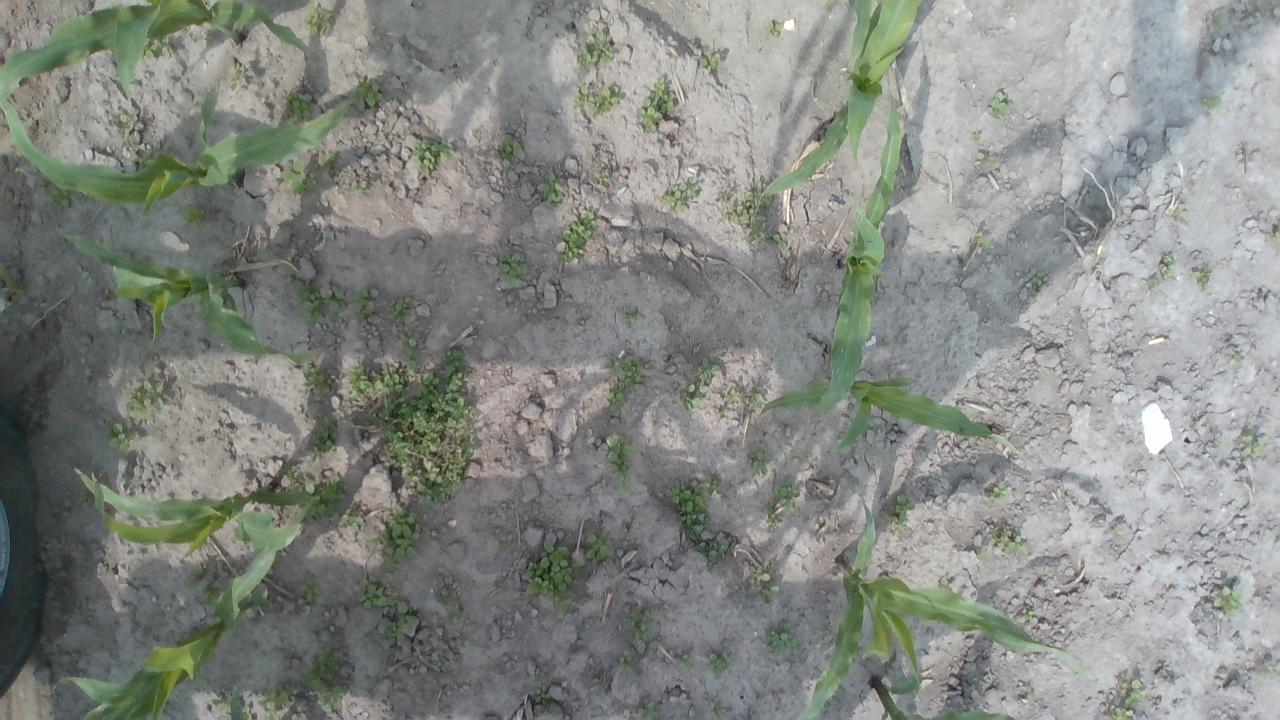Maize: (785, 491, 1093, 720), (0, 94, 354, 224), (50, 224, 329, 369), (53, 548, 272, 720), (0, 0, 303, 116), (758, 0, 922, 194), (812, 89, 906, 412), (64, 456, 320, 560), (755, 376, 1027, 463), (866, 670, 1024, 720)
Weeds: (366, 350, 476, 512), (662, 474, 725, 543), (524, 540, 580, 616), (300, 646, 351, 714), (280, 464, 344, 518), (371, 504, 422, 571), (723, 180, 771, 239), (290, 278, 346, 325), (605, 353, 644, 416), (557, 209, 599, 262), (636, 76, 674, 134), (410, 136, 456, 176), (380, 602, 418, 650), (604, 433, 634, 491), (570, 84, 620, 118), (124, 380, 164, 422), (736, 566, 782, 602), (184, 564, 223, 606), (573, 30, 613, 70), (660, 175, 700, 215), (95, 417, 139, 453), (280, 159, 322, 192), (762, 620, 802, 654), (987, 522, 1028, 555), (624, 606, 656, 648), (34, 177, 72, 212), (262, 681, 296, 720), (884, 496, 918, 534), (209, 692, 254, 720), (1116, 672, 1150, 708), (356, 574, 394, 606), (496, 250, 530, 284), (310, 416, 338, 455), (1236, 423, 1268, 457), (306, 4, 338, 38), (494, 134, 523, 171), (536, 172, 566, 206), (774, 477, 801, 514), (300, 368, 332, 398), (286, 86, 312, 122), (356, 75, 384, 108), (1211, 585, 1242, 614), (699, 542, 732, 569), (350, 286, 374, 323), (345, 365, 371, 398), (386, 295, 413, 326), (584, 530, 610, 562), (676, 386, 708, 411), (298, 571, 321, 604), (706, 650, 732, 679), (339, 506, 368, 532), (139, 35, 171, 58), (0, 265, 26, 292), (692, 357, 718, 384), (746, 446, 770, 475), (398, 334, 427, 358), (180, 204, 207, 229), (113, 112, 138, 139), (1188, 264, 1212, 292), (982, 482, 1011, 505), (438, 590, 460, 620), (227, 67, 250, 93), (988, 89, 1008, 118), (1252, 661, 1280, 681), (1202, 90, 1224, 115), (744, 385, 765, 411), (1158, 254, 1176, 282), (1028, 267, 1046, 295), (1104, 703, 1133, 720), (766, 499, 783, 528), (636, 701, 660, 720), (1223, 337, 1243, 359), (618, 304, 638, 326), (706, 701, 728, 720), (192, 29, 214, 48), (1142, 275, 1160, 298), (700, 52, 720, 72), (764, 19, 782, 41), (1167, 203, 1187, 221), (592, 170, 612, 188), (722, 388, 742, 406), (973, 152, 997, 166), (939, 574, 957, 592), (618, 648, 634, 668), (973, 231, 991, 248), (772, 229, 788, 248), (316, 150, 335, 165), (715, 187, 735, 201), (494, 536, 508, 555), (535, 692, 553, 706), (352, 180, 368, 195), (1206, 433, 1224, 446), (1020, 606, 1034, 622), (1110, 525, 1126, 538), (540, 673, 554, 687), (679, 652, 692, 666), (1271, 230, 1280, 245), (970, 132, 981, 144), (976, 551, 989, 559), (1214, 16, 1222, 26), (495, 586, 504, 594), (564, 716, 572, 720)
